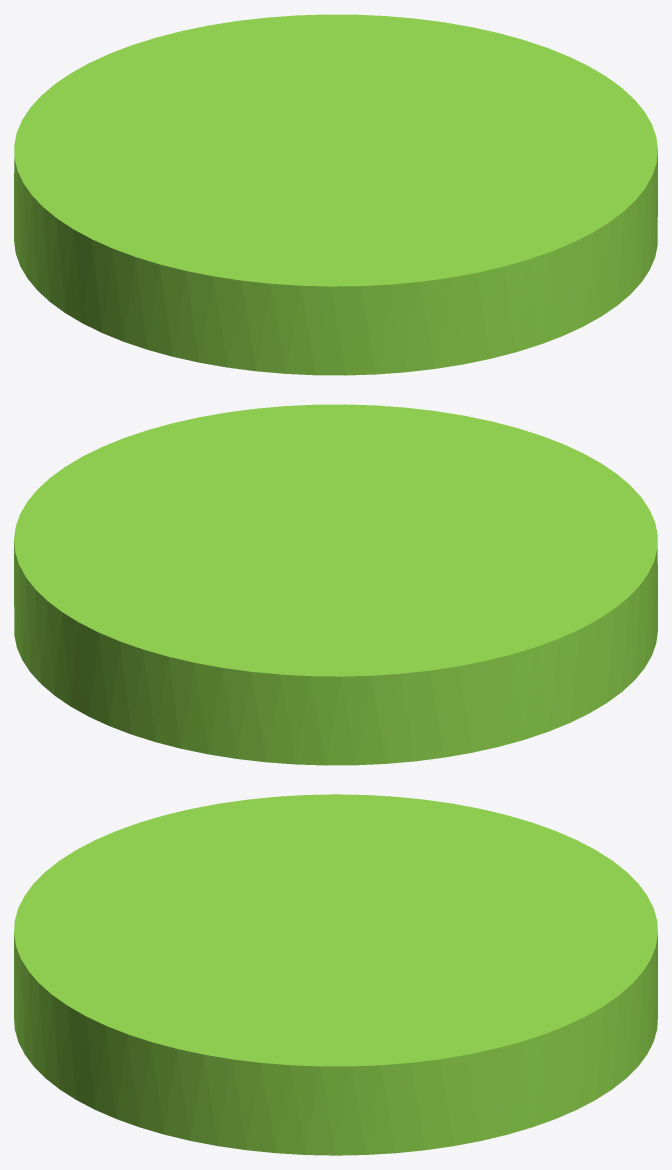
The model's file is lidar_top_fastbot_3.dae.
3 views of the same model, one above another, from view 1: azimuth 30°, elevation 25°; view 2: azimuth 150°, elevation 25°; view 3: azimuth 270°, elevation 25° (orthographic).
Visible parts, largest first — view 1: lidar_top_3; view 2: lidar_top_3; view 3: lidar_top_3.
Boxes of the visible parts, left/top/right/bottom form: lidar_top_3: left=14, top=14, right=657, bottom=375; lidar_top_3: left=14, top=404, right=657, bottom=765; lidar_top_3: left=14, top=794, right=657, bottom=1155.
Size of the model in its own units: 65.6 by 65.58 by 10.
1 material, 1 textured.
